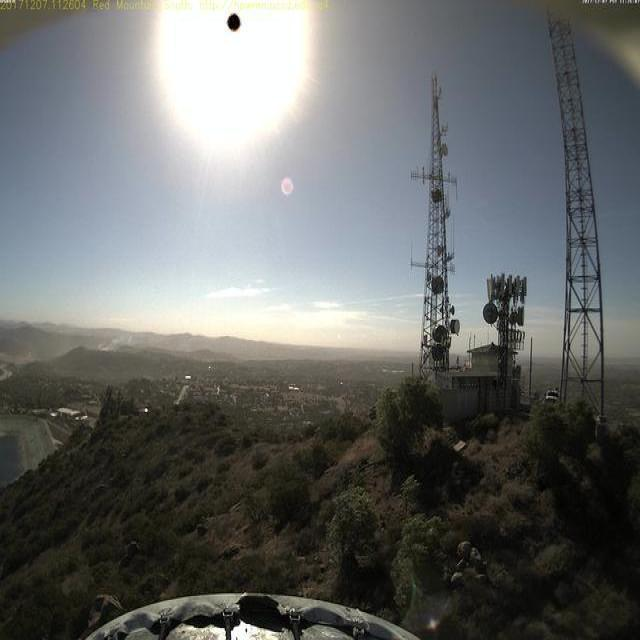smoke: (90, 325, 144, 356)
